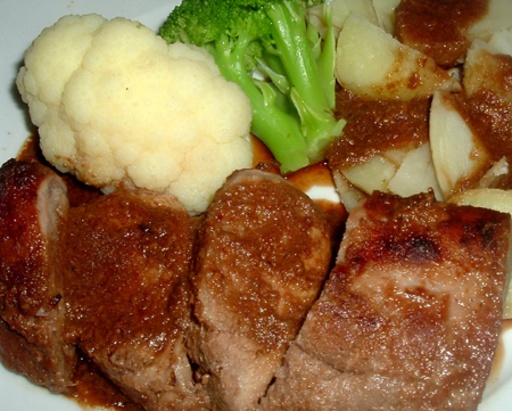background: (0, 0, 410, 264)
